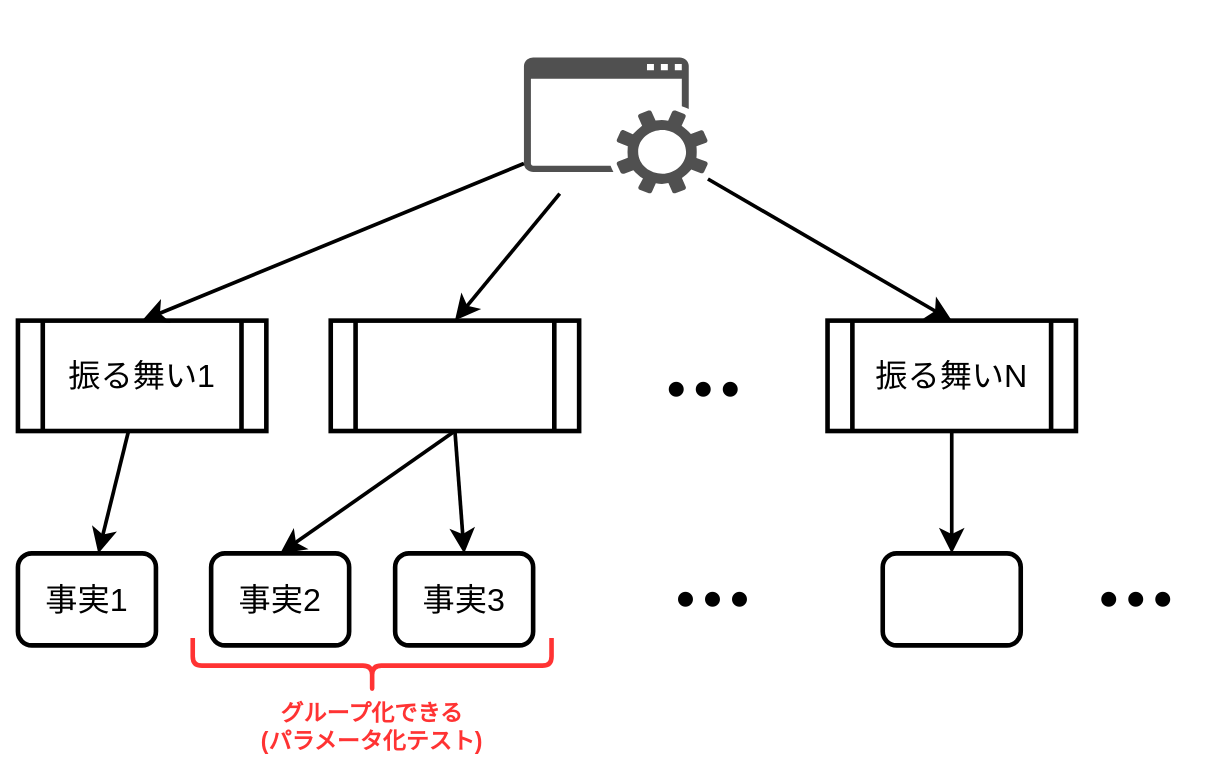
Some shapes in this 1212 by 770 pixel diagram are drawn without their labels. The shapes that lost their labels are listed below. From the top down, each one's centre as x and y in pixels, then its label:
the point at 615,125: アプリケーション
the point at 454,375: 振る舞い2
the point at 951,599: 事実N
